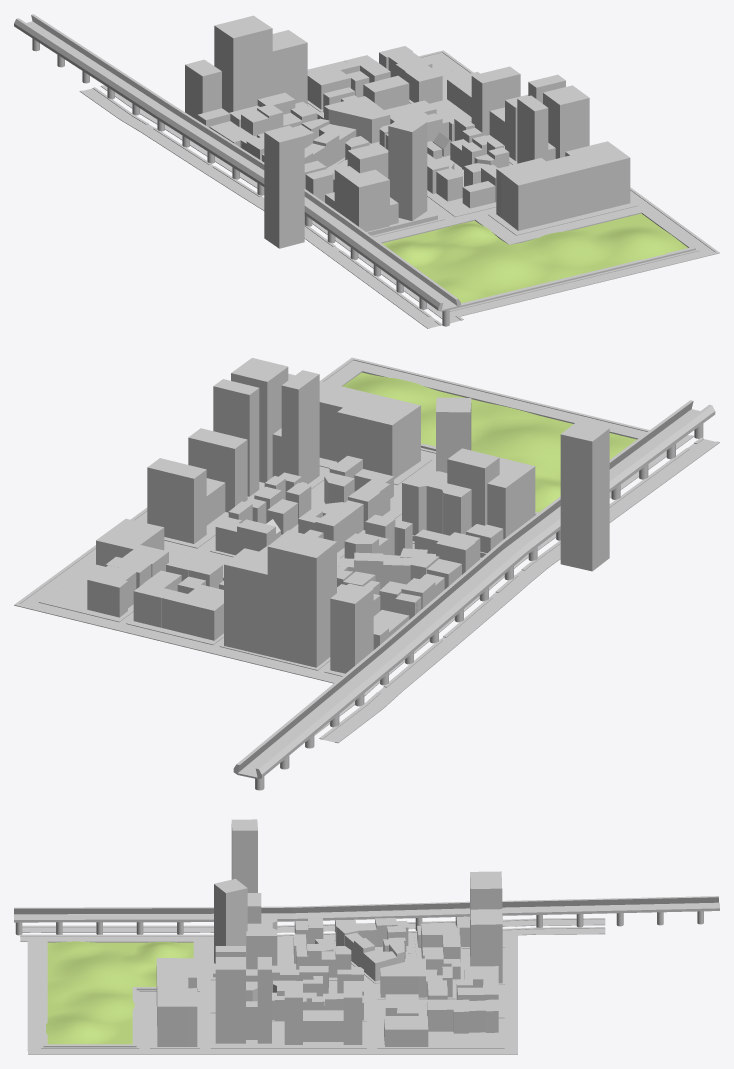
The model's file is 3D blockout.fbx.
3 views of the same model, one above another, from view 1: azimuth 30°, elevation 25°; view 2: azimuth 150°, elevation 25°; view 3: azimuth 270°, elevation 25° (orthographic). The views are drawn at different scales.
Visible parts, largest first — view 1: Plane.026, Cube.049, Cube.025, Plane.006, Cube.085, Plane.001, Cube.045, Cube.073, Cube.075, Cube.027, Cube.010, Cube.069 (+23 smaller); view 2: Cube.049, Cube.085, Plane.006, Plane.026, Cube.025, Cube.045, Plane.001, Cube.069, Cube.026, Cube.046, Cube, Cube.028 (+26 smaller); view 3: Plane.006, Plane.026, Cube.049, Cube.025, Cube.085, Cube.027, Plane.001, Cube.073, Cube.045, Cube.010, Cube.034, Cube.101 (+22 smaller).
Part boxes in pixels (x1,y1,x2,y2): Plane.026: (382, 213, 687, 303); Cube.049: (14, 14, 460, 311); Cube.025: (496, 141, 630, 230); Plane.006: (100, 50, 719, 323); Cube.085: (214, 15, 307, 112); Plane.001: (79, 87, 442, 328); Cube.045: (264, 125, 304, 248); Cube.073: (388, 116, 427, 220); Cube.075: (334, 166, 389, 231); Cube.027: (543, 85, 589, 158); Cube.010: (379, 210, 695, 309); Cube.069: (471, 66, 520, 135); Cube.049: (233, 400, 715, 779); Cube.085: (224, 530, 336, 667); Plane.006: (14, 357, 694, 735); Plane.026: (342, 372, 636, 512); Cube.025: (288, 373, 420, 479); Cube.045: (560, 421, 609, 571); Plane.001: (319, 437, 719, 743); Cube.069: (147, 458, 206, 543); Cube.026: (281, 370, 319, 484); Cube.046: (402, 467, 471, 535); Cube: (330, 583, 373, 673); Cube.028: (213, 379, 259, 496); Plane.006: (20, 927, 605, 1054); Plane.026: (46, 941, 193, 1044); Cube.049: (14, 896, 719, 922); Cube.025: (156, 958, 197, 1046); Cube.085: (470, 871, 502, 983); Cube.027: (215, 957, 245, 1043); Plane.001: (22, 918, 605, 932); Cube.073: (214, 879, 247, 966); Cube.045: (231, 819, 257, 892); Cube.010: (43, 940, 197, 1047); Cube.034: (380, 958, 425, 997); Cube.101: (380, 1002, 501, 1047).
Bounding box in the file's own units: 5301 × 1650 × 11211.
